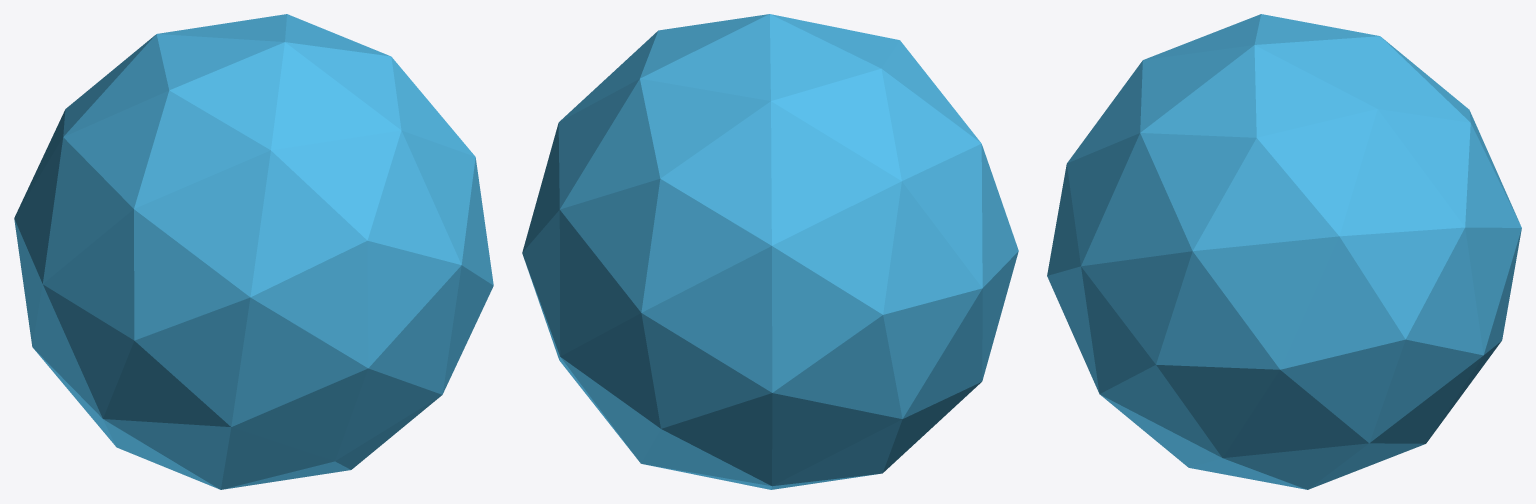
File: CSSBall.glb
The picture shows the model from 3 angles, left to right: view 1: azimuth 30°, elevation 25°; view 2: azimuth 150°, elevation 25°; view 3: azimuth 270°, elevation 25°; orthographic projection. The views are drawn at different scales.
Visible parts, largest first — view 1: Icosphere, Icosphere.001; view 2: Icosphere, Icosphere.001; view 3: Icosphere.001, Icosphere.
Part boxes in pixels (box(x1,y1,x2,y2)): Icosphere: box(14, 90, 493, 489); Icosphere.001: box(63, 14, 475, 156); Icosphere: box(522, 40, 1018, 489); Icosphere.001: box(522, 14, 901, 356); Icosphere.001: box(1140, 14, 1521, 369); Icosphere: box(1047, 60, 1521, 489).
Bounding box in the file's own units: 1.99 × 1.98 × 1.98.
